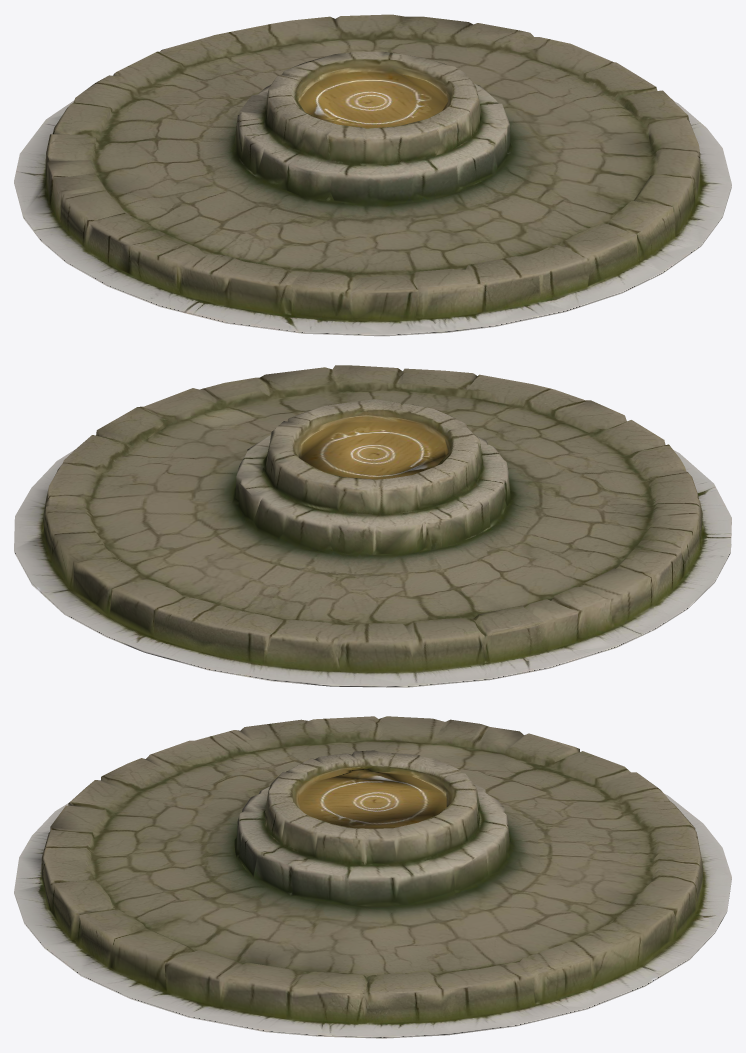
The model's file is Suelo_Centro.fbx.
3 views of the same model, one above another, from view 1: azimuth 30°, elevation 25°; view 2: azimuth 150°, elevation 25°; view 3: azimuth 270°, elevation 25° (orthographic).
Parts seen in each view (by area): view 1: tripo_node_64bfe7a9; view 2: tripo_node_64bfe7a9; view 3: tripo_node_64bfe7a9.
Part boxes in pixels (bbox=[...]): tripo_node_64bfe7a9: bbox=[14, 14, 731, 336]; tripo_node_64bfe7a9: bbox=[14, 365, 731, 687]; tripo_node_64bfe7a9: bbox=[14, 716, 731, 1038].
Bounding box in the file's own units: 1 × 0.1475 × 0.9961.
1 material, 1 textured.
